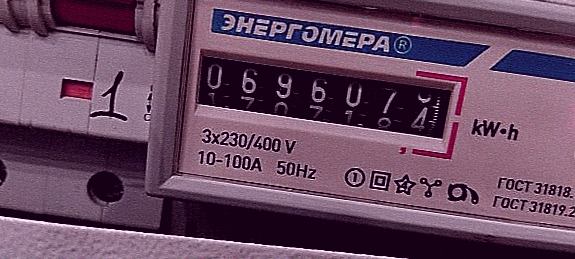0: (201, 60, 226, 92), (342, 79, 365, 110)
4: (406, 103, 429, 135)
6: (306, 74, 330, 107), (237, 65, 259, 96)
7: (376, 83, 398, 116)
9: (271, 70, 295, 101)
screen: (178, 31, 471, 163)
